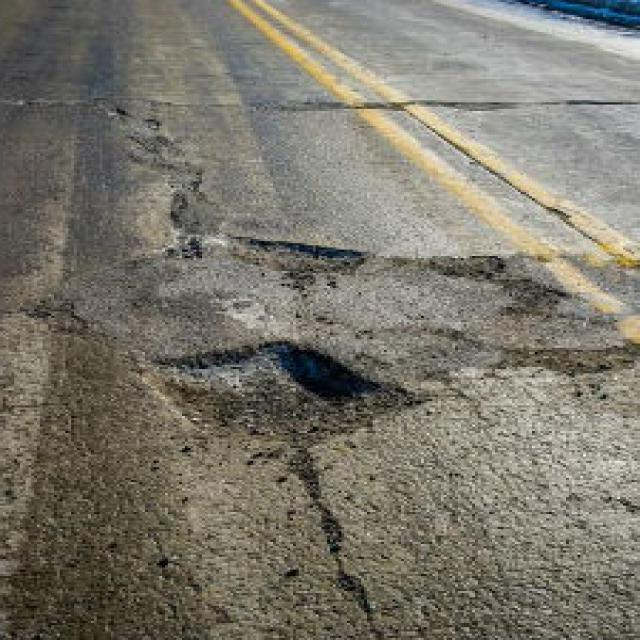pothole: (134, 338, 431, 446), (127, 128, 227, 272), (399, 253, 575, 323), (210, 232, 374, 289), (484, 339, 639, 379)
